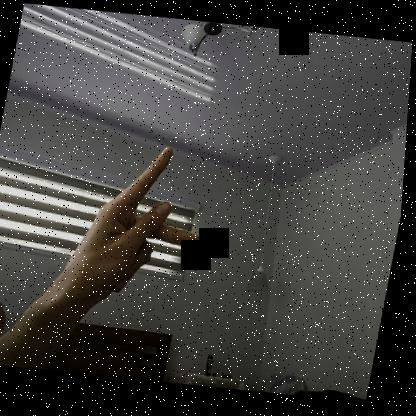K: (65, 135, 223, 324)
